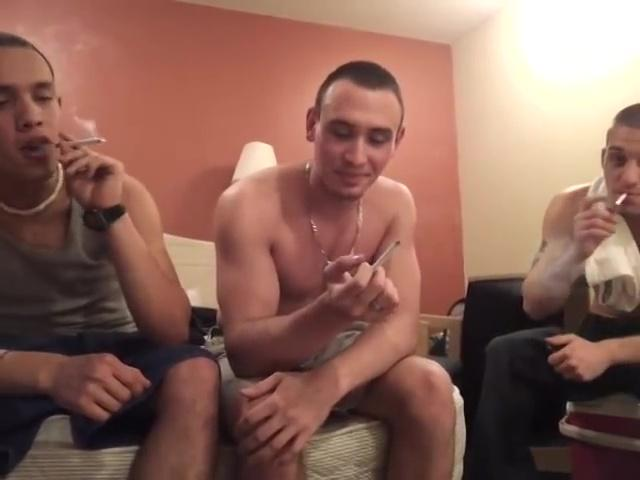cigarette: (370, 238, 401, 277), (49, 134, 111, 151), (613, 191, 630, 206)
